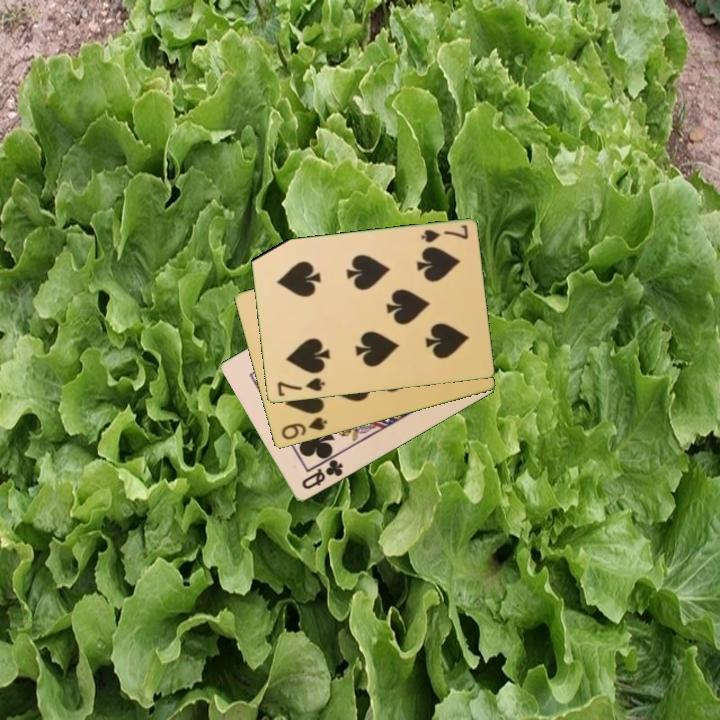7s: (273, 374, 327, 399), (418, 222, 471, 246)
9s: (278, 414, 330, 443)
Qc: (298, 456, 346, 493)
